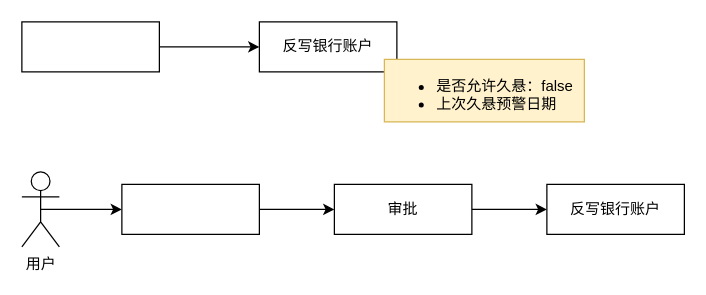
Image size: 706x295. Some labels were removed from this diagram. The centre of each missing label's shape, as x and y in pixels:
提交久悬保留申请: (x=190, y=208)
监控系统发送消息: (x=90, y=46)
